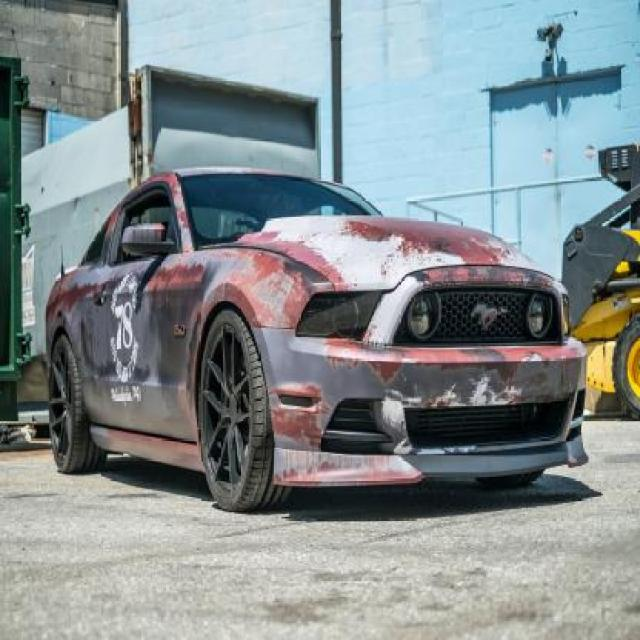corrosion: (45, 168, 593, 512)
